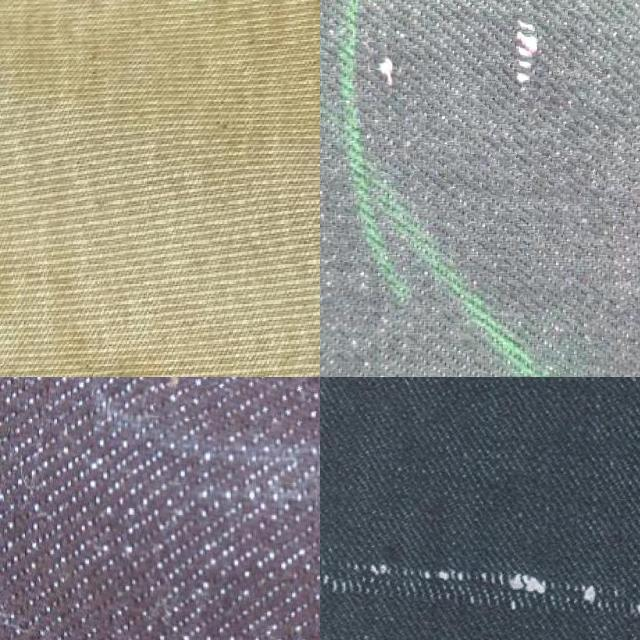stains: (320, 377, 640, 640), (418, 0, 640, 206), (154, 377, 320, 434)
